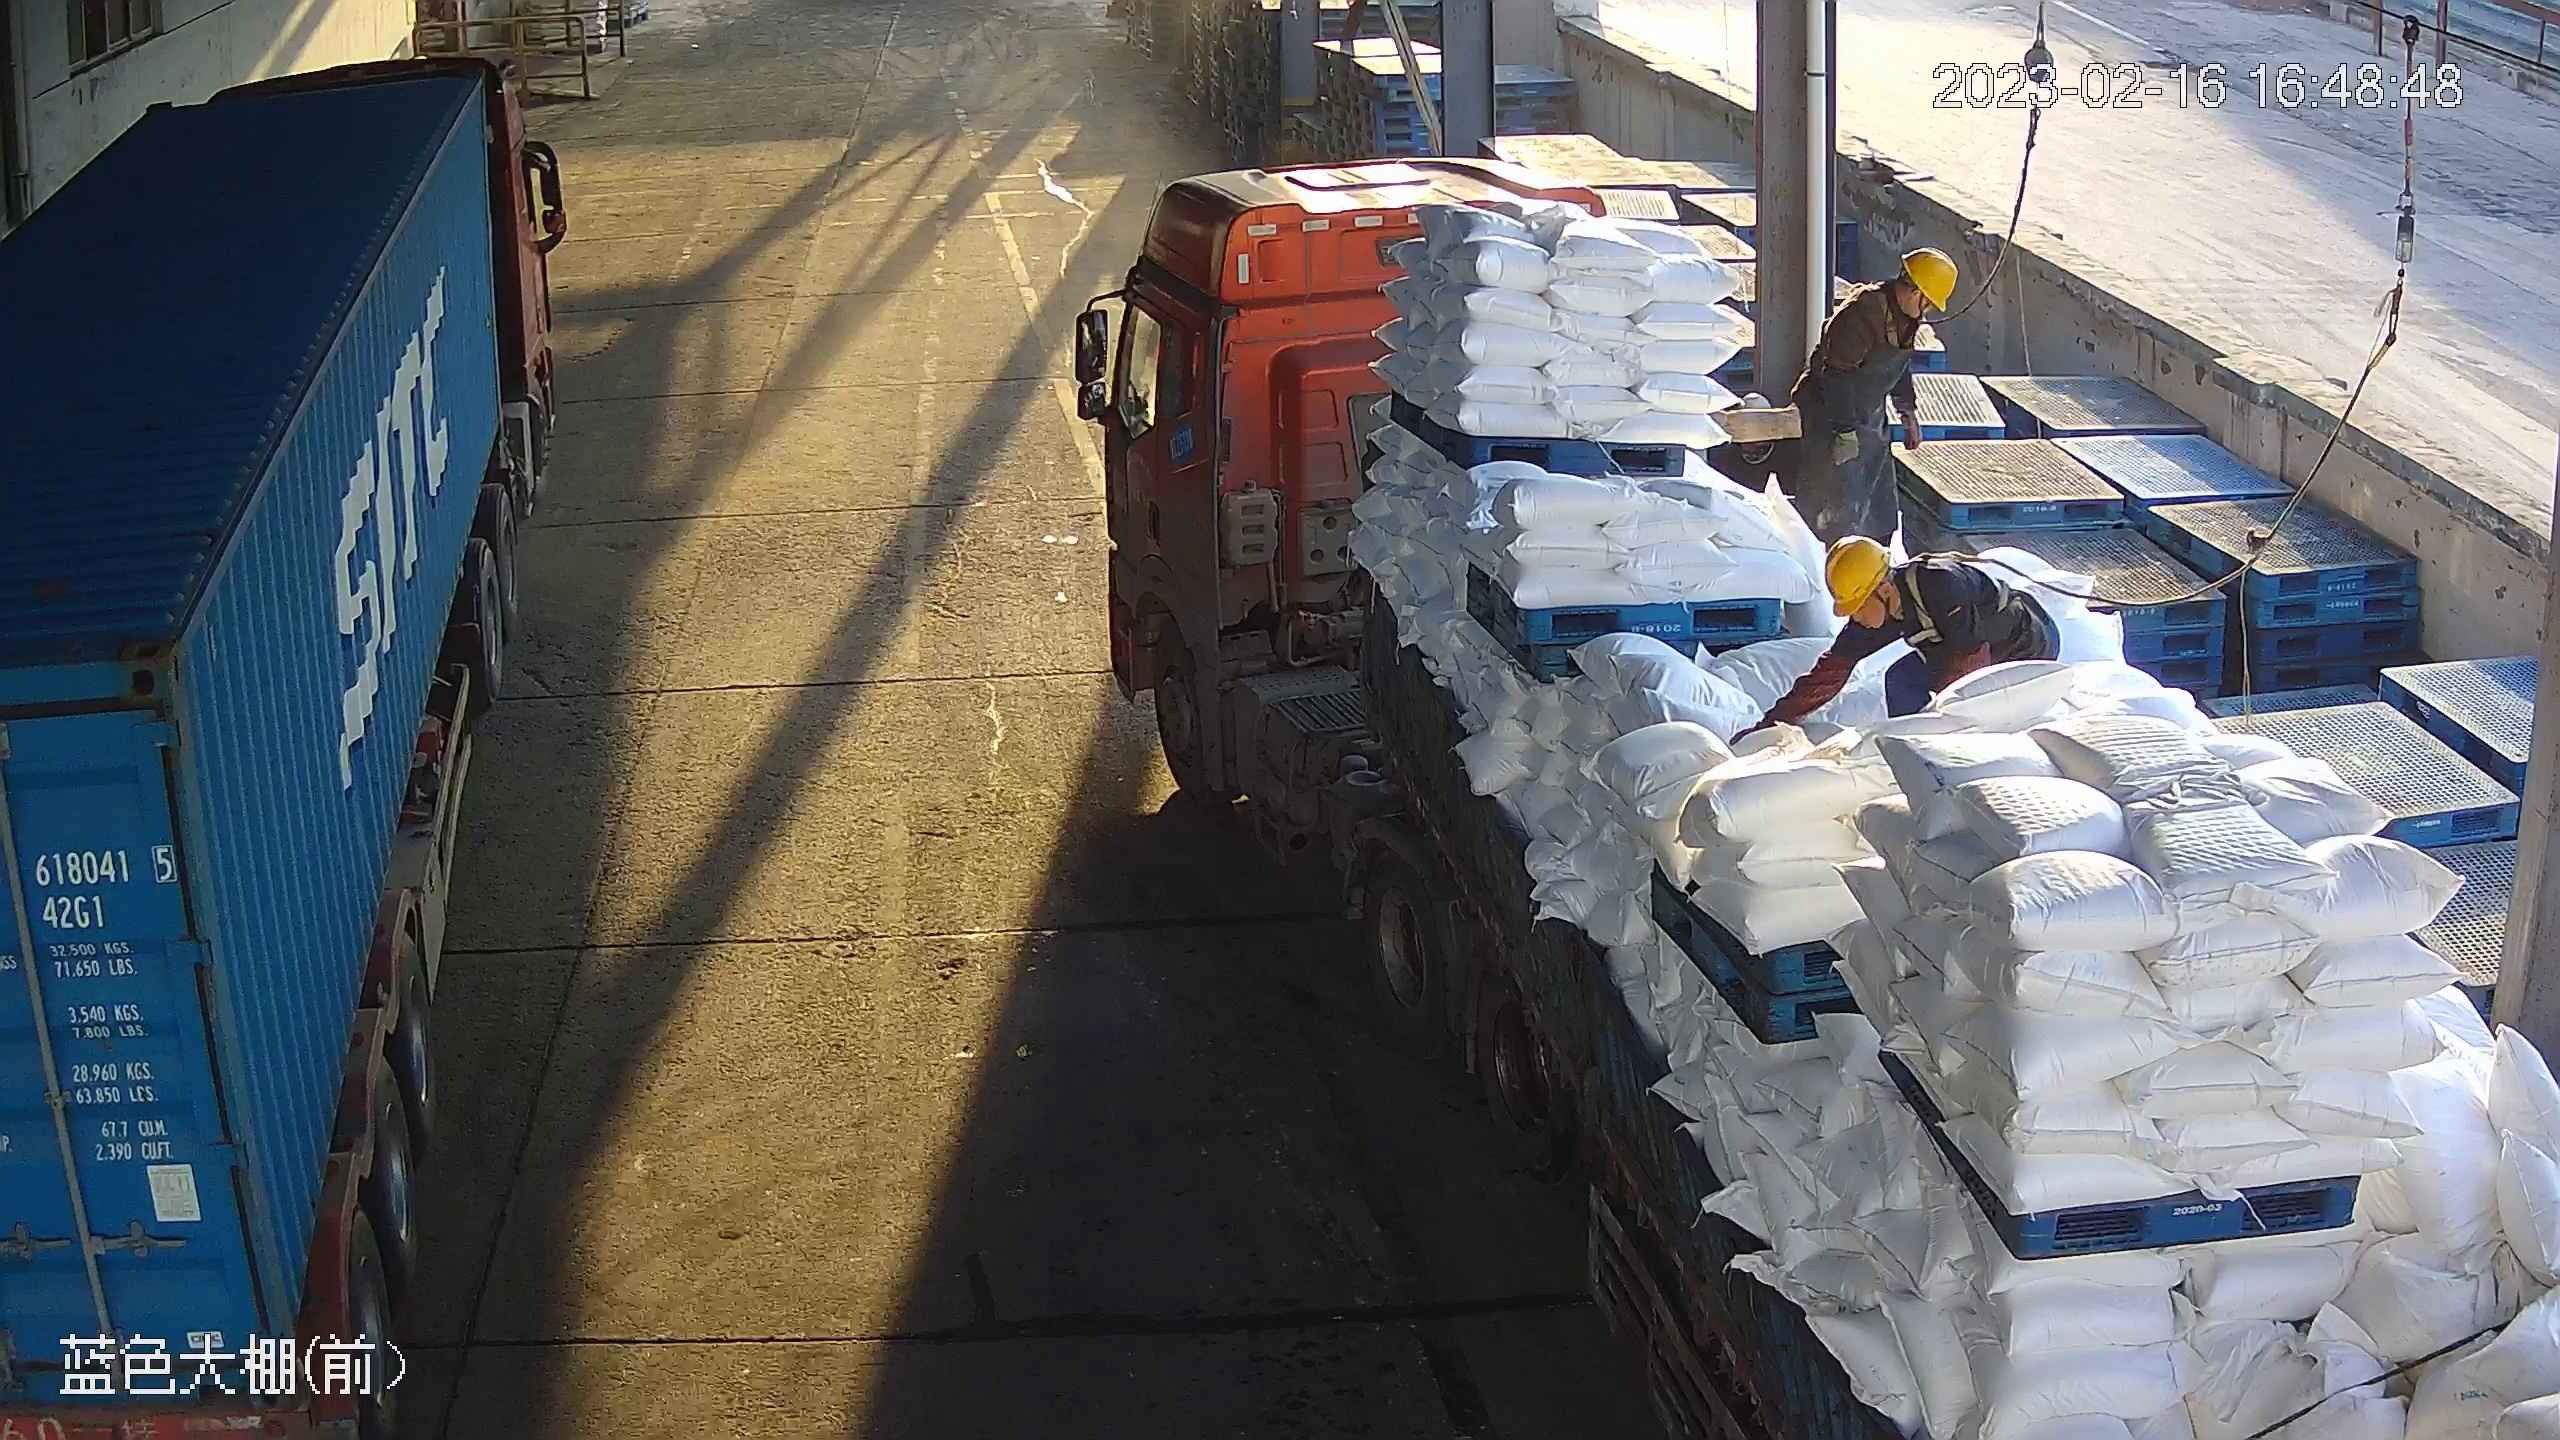belt: (1893, 551, 2010, 648), (1825, 279, 1900, 342)
head: (1823, 534, 1973, 635), (1847, 247, 1958, 352)
helmet: (1824, 534, 1892, 616), (1900, 245, 1959, 314)
people: (1731, 535, 2062, 744), (1788, 245, 1959, 549)
truck: (1072, 152, 2560, 1440), (1, 60, 572, 1440)
